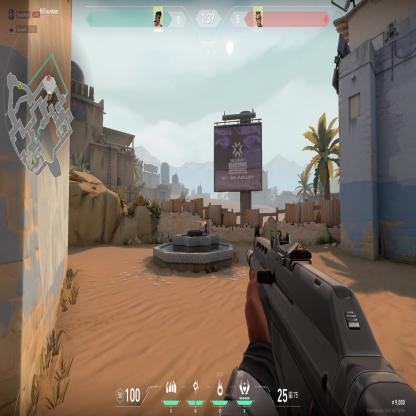enemy: (201, 218, 208, 234)
